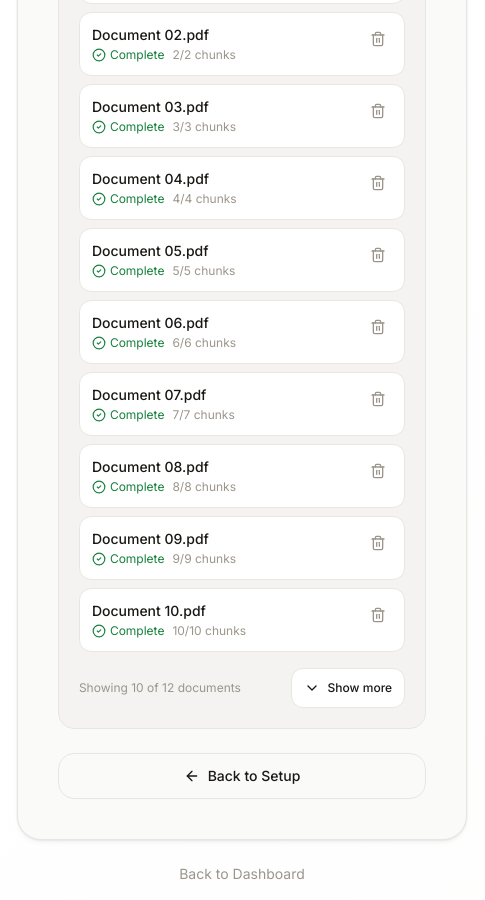
Test case: AdminDocumentUpload › returns to the bounded Recent Uploads view after refresh reduces the Document count
The width and height of the screenshot is (485, 900).
(page scrolled)
Click the button "Show more". click: {"x": 348, "y": 688}
box: [291,668,405,708]
(page scrolled)
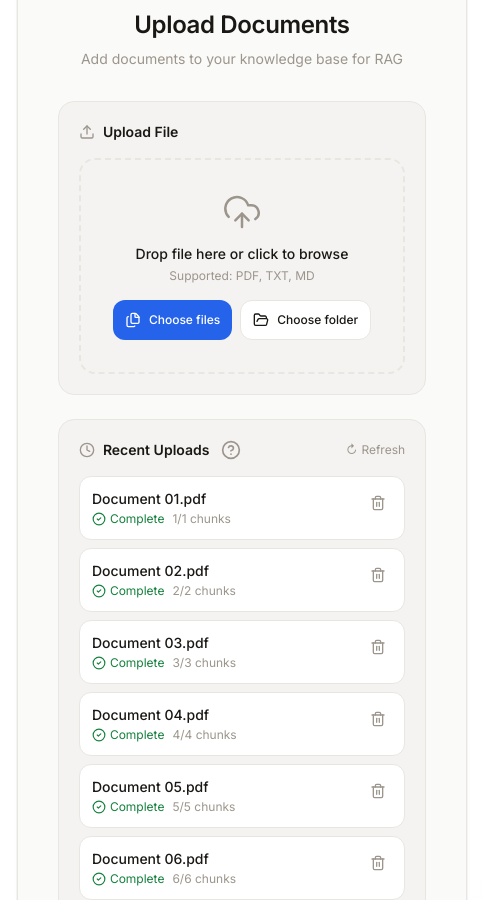
Click the button "↻ Refresh". click: {"x": 376, "y": 450}
box: [346,442,405,458]
(page scrolled)
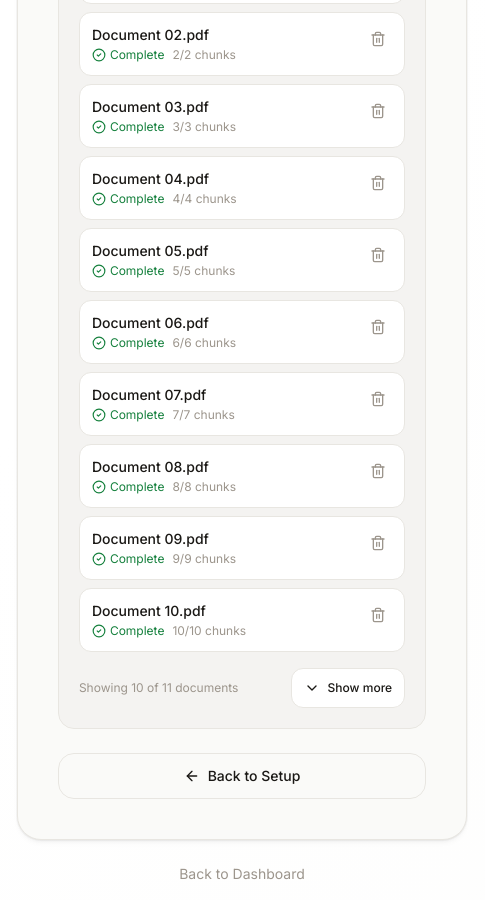
Result: the text "Showing 10 of 11 documents" is shown at [79,680,238,696]
Result: the button "Show more" is enabled at [291,668,405,708]
